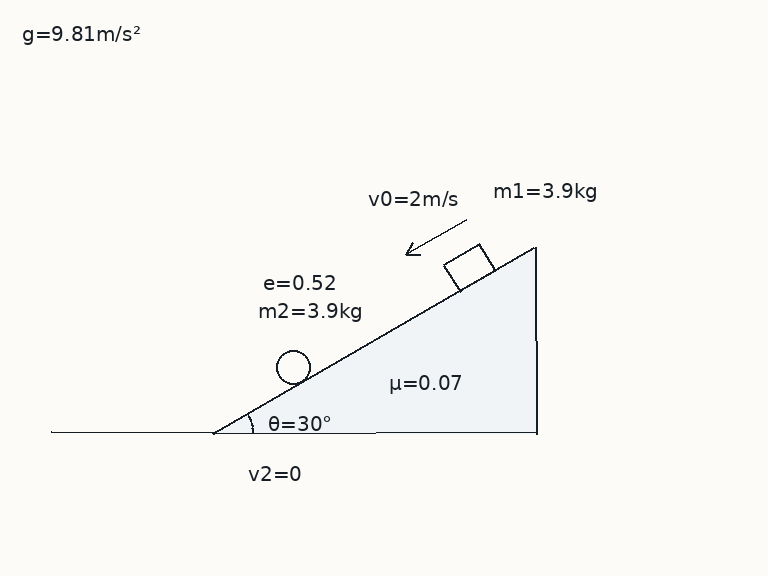ball: (274, 348, 312, 386)
block: (442, 242, 497, 293)
ramp: (211, 245, 537, 435)
